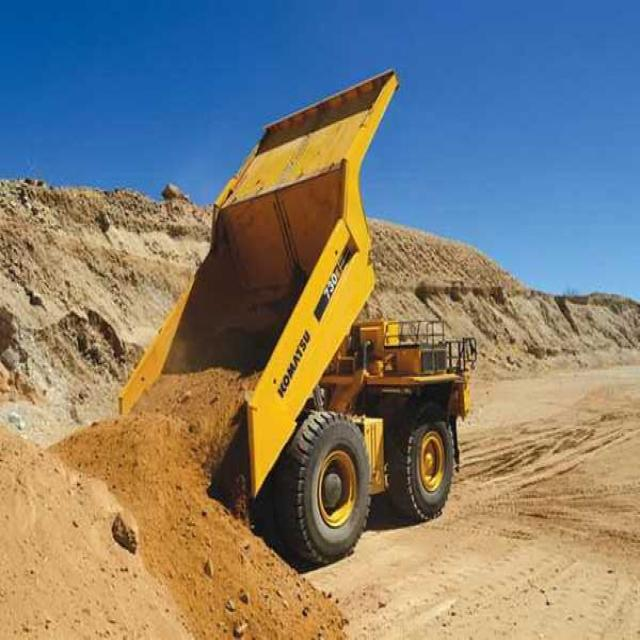dump_truck: (96, 66, 476, 561)
